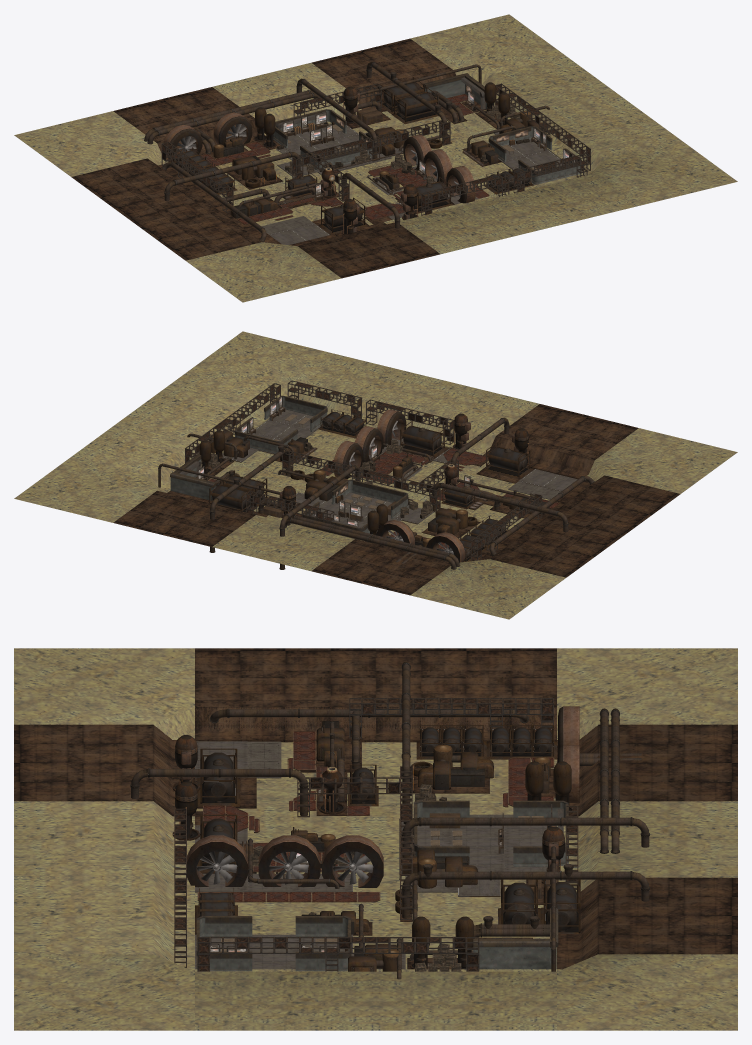
The model's file is factory2.glb.
3 views of the same model, one above another, from view 1: azimuth 30°, elevation 25°; view 2: azimuth 150°, elevation 25°; view 3: azimuth 270°, elevation 25° (orthographic). The views are drawn at different scales.
Parts seen in each view (by area): view 1: environment:main; view 2: environment:main; view 3: environment:main, turbine-fan_(3), turbine-fan_(1), turbine-fan_(2).
Part boxes in pixels (box(x1,y1,x2,y2)): environment:main: box(14, 14, 737, 302); environment:main: box(14, 331, 737, 619); environment:main: box(14, 648, 737, 1030); turbine-fan_(3): box(196, 851, 237, 884); turbine-fan_(1): box(332, 851, 373, 884); turbine-fan_(2): box(269, 851, 308, 884).
Size of what is drawn, in the model's own units: 95.89 by 10.34 by 76.71.
100 materials, 100 textured.
